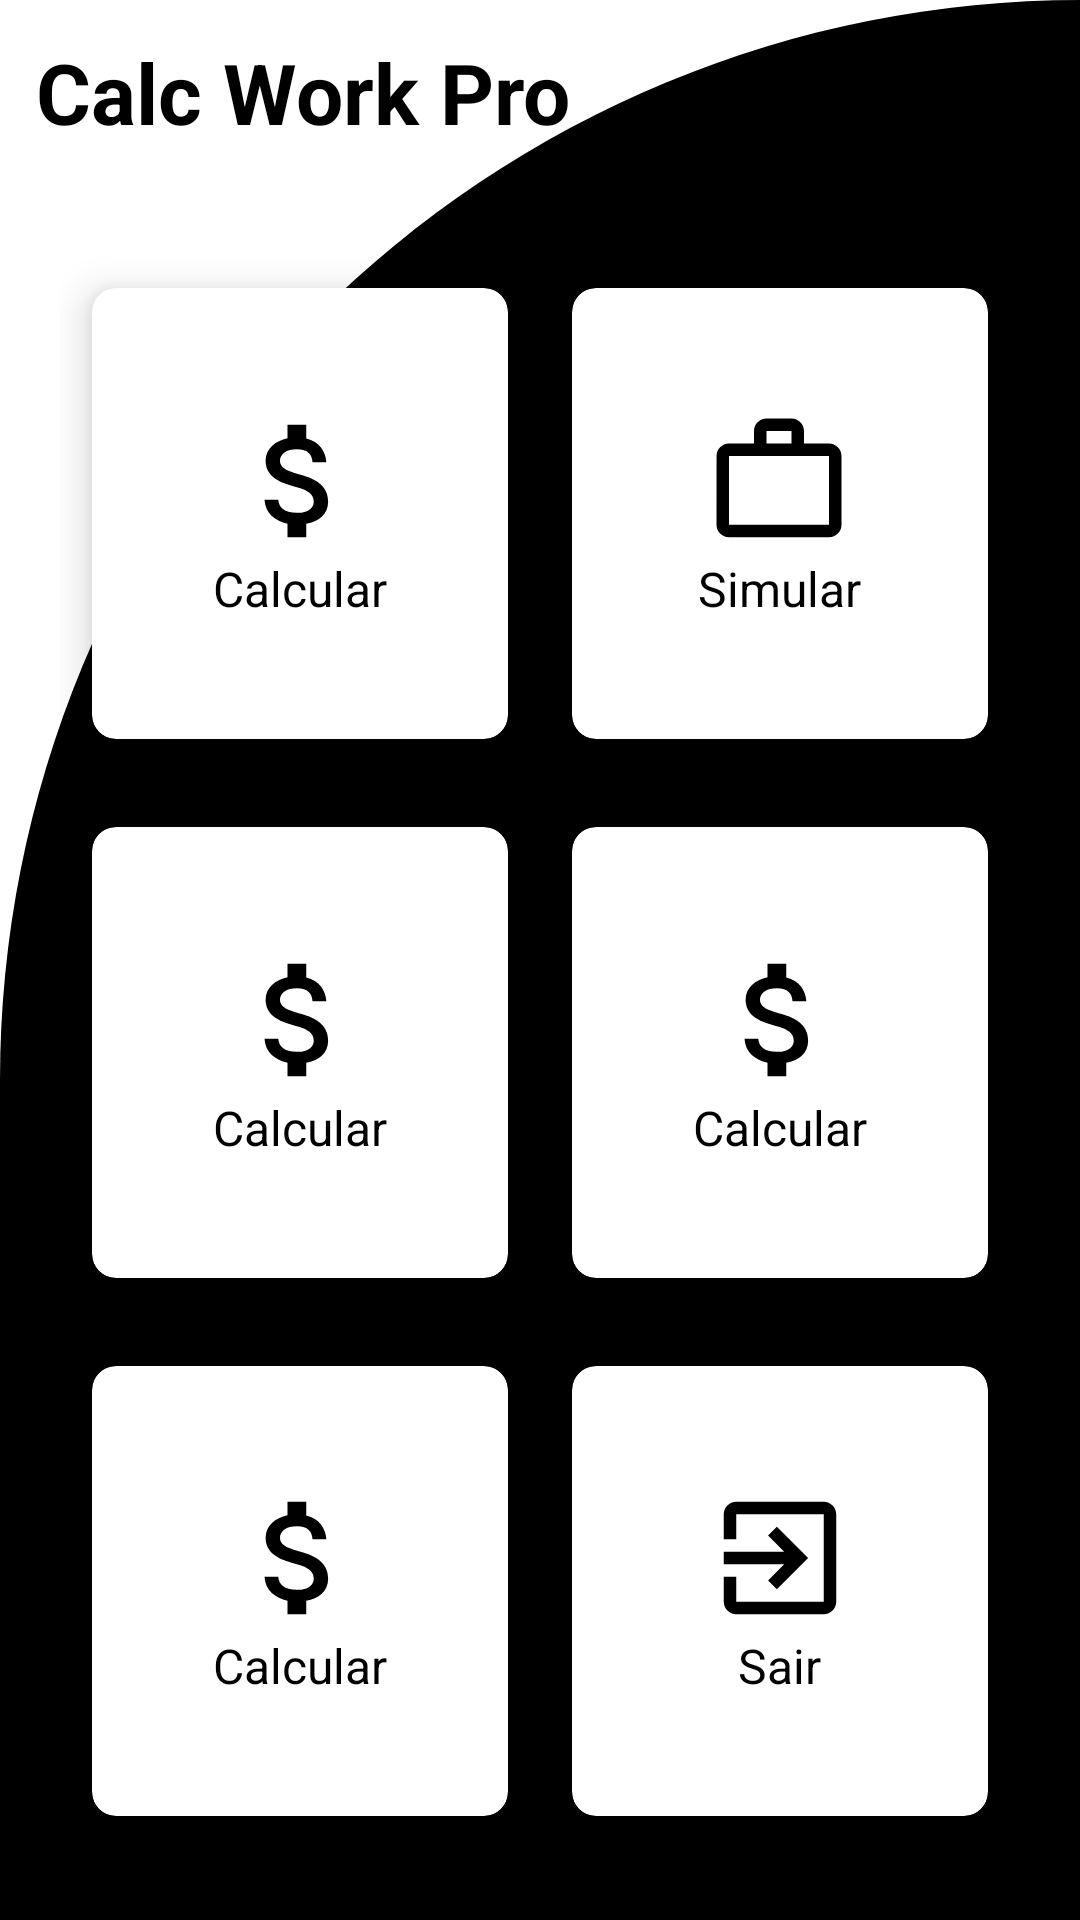

Icon bounding boxes for this 1080 × 1920 phone screenshot, format bbox=(x1, y1, x2, y2):
money sv: bbox=(264, 424, 328, 538), bbox=(264, 963, 328, 1077), bbox=(744, 963, 808, 1077), bbox=(264, 1501, 328, 1615)
work acordo: bbox=(716, 418, 842, 538)
